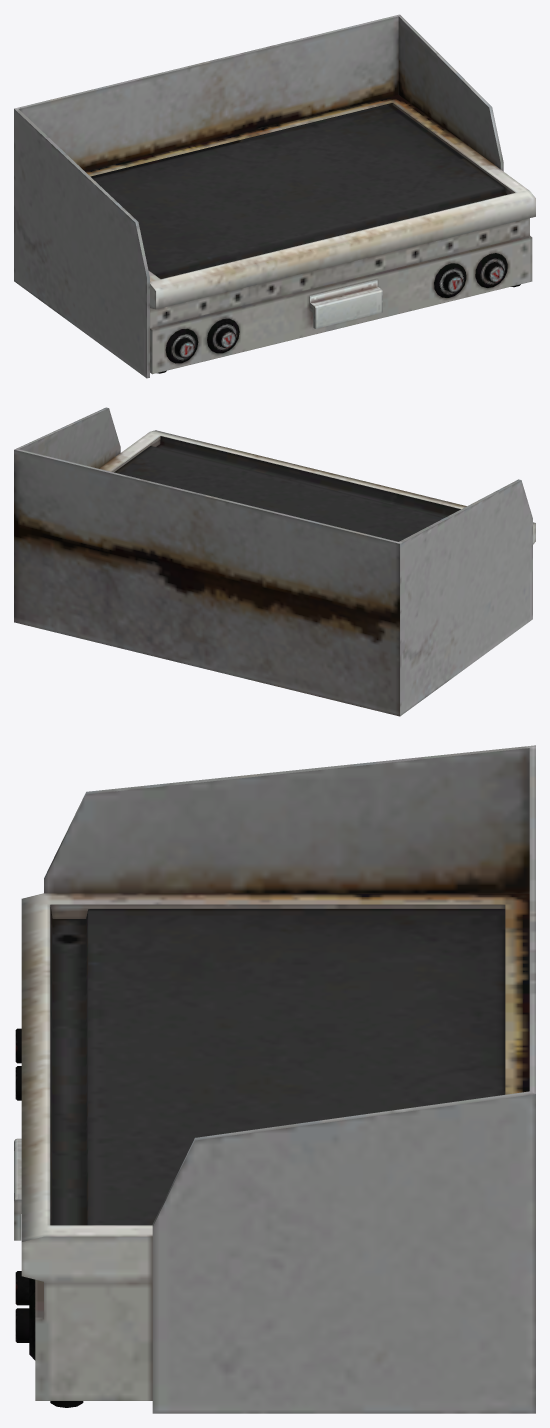
Rendered from sm24_003_roaster01a.fbx.
3 renders of one model, top to bottom at view 1: azimuth 30°, elevation 25°; view 2: azimuth 150°, elevation 25°; view 3: azimuth 270°, elevation 25°, orthographic. The views are drawn at different scales.
Parts seen in each view (by area): view 1: LOD_1_Group_0_Sub_1__sm24_003_Roaster01A_A_Mat, LOD_1_Group_1_Sub_1__sm24_003_Roaster01A_A_Mat, LOD_1_Group_2_Sub_1__sm24_003_Roaster01A_A_Mat, LOD_1_Group_3_Sub_1__sm24_003_Roaster01A_A_Mat; view 2: LOD_1_Group_1_Sub_1__sm24_003_Roaster01A_A_Mat, LOD_1_Group_0_Sub_1__sm24_003_Roaster01A_A_Mat; view 3: LOD_1_Group_1_Sub_1__sm24_003_Roaster01A_A_Mat, LOD_1_Group_0_Sub_1__sm24_003_Roaster01A_A_Mat, LOD_1_Group_2_Sub_1__sm24_003_Roaster01A_A_Mat.
Part boxes in pixels (left/top/right/bottom): LOD_1_Group_0_Sub_1__sm24_003_Roaster01A_A_Mat: left=85, top=95, right=535, bottom=374; LOD_1_Group_1_Sub_1__sm24_003_Roaster01A_A_Mat: left=14, top=14, right=503, bottom=378; LOD_1_Group_2_Sub_1__sm24_003_Roaster01A_A_Mat: left=175, top=263, right=504, bottom=358; LOD_1_Group_3_Sub_1__sm24_003_Roaster01A_A_Mat: left=157, top=253, right=520, bottom=373; LOD_1_Group_1_Sub_1__sm24_003_Roaster01A_A_Mat: left=14, top=407, right=532, bottom=716; LOD_1_Group_0_Sub_1__sm24_003_Roaster01A_A_Mat: left=99, top=430, right=535, bottom=544; LOD_1_Group_1_Sub_1__sm24_003_Roaster01A_A_Mat: left=44, top=745, right=535, bottom=1413; LOD_1_Group_0_Sub_1__sm24_003_Roaster01A_A_Mat: left=21, top=893, right=529, bottom=1400; LOD_1_Group_2_Sub_1__sm24_003_Roaster01A_A_Mat: left=14, top=1028, right=29, bottom=1342.
Bounding box in the file's own units: 1.18 × 0.5062 × 0.7493.
